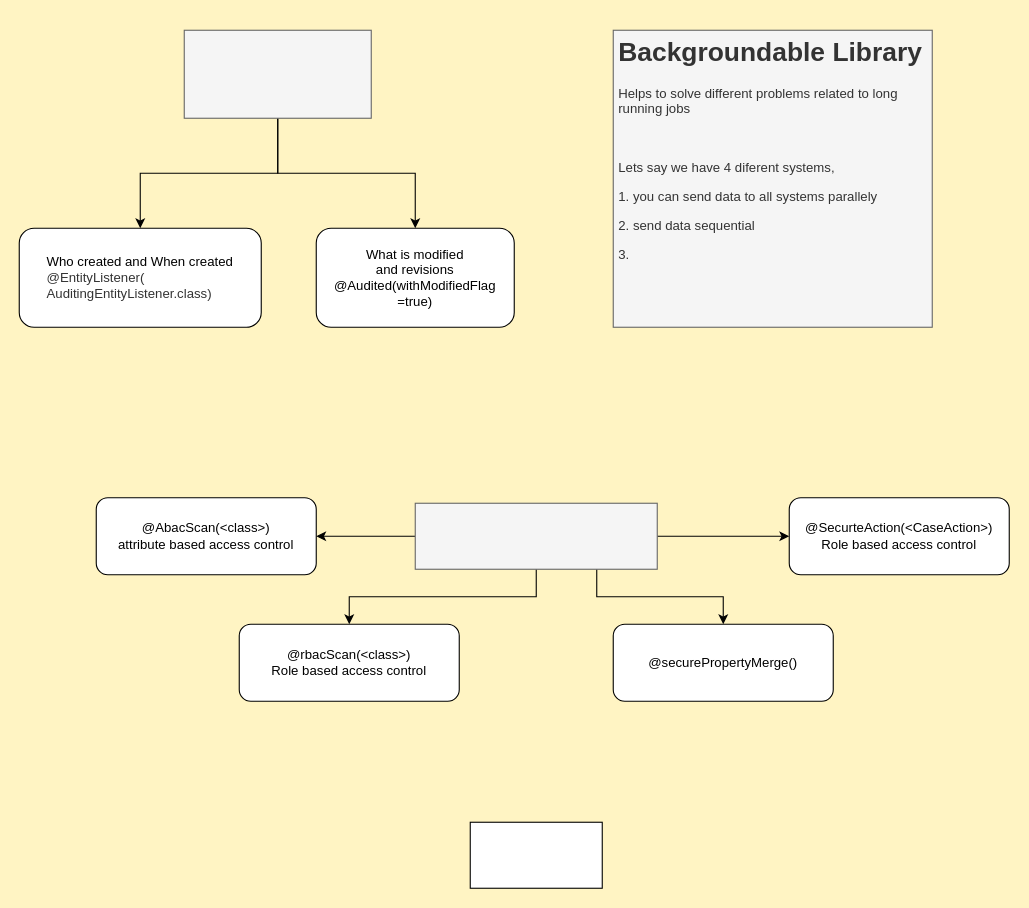
This 1029x908 diagram has some shape labels left out. Here are the shapes that lost their labels. From the top down, the box of each, then its label:
(183, 29, 371, 118): Audit Library Using Hibernate envers .
(414, 502, 657, 569): Security Library .
(469, 821, 602, 888): Cache
